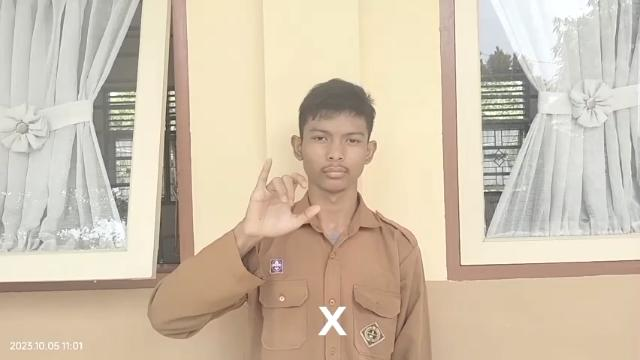Y: (245, 158, 322, 239)
